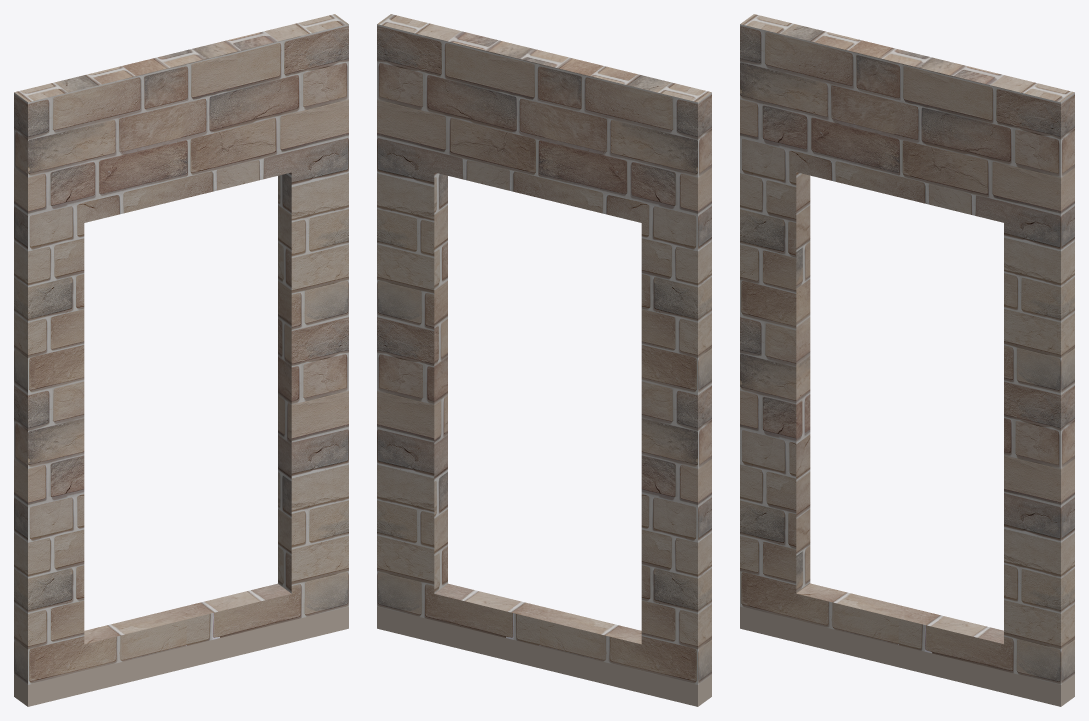
Rendered from ARC0210040.fbx.
The picture shows the model from 3 angles, left to right: view 1: azimuth 30°, elevation 25°; view 2: azimuth 150°, elevation 25°; view 3: azimuth 330°, elevation 25°; orthographic projection.
Visible parts, largest first — view 1: smARC0210040; view 2: smARC0210040; view 3: smARC0210040.
Boxes of the visible parts, x1=… form: smARC0210040: x1=14, y1=14, x2=348, y2=706; smARC0210040: x1=377, y1=14, x2=711, y2=706; smARC0210040: x1=740, y1=14, x2=1074, y2=706.
Bounding box in the file's own units: 182 × 328 × 13.67.
1 material, 1 textured.
